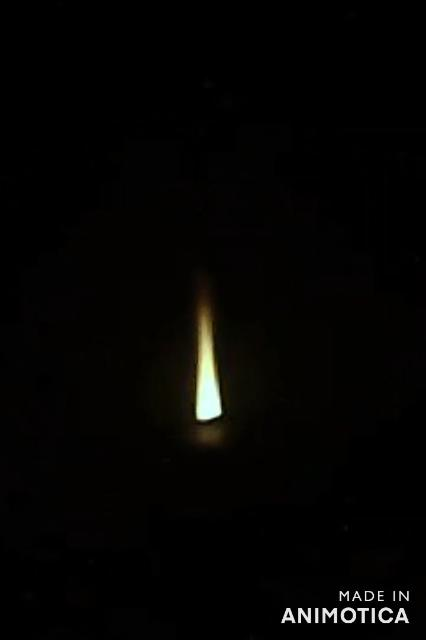burner flame: (192, 294, 228, 424)
